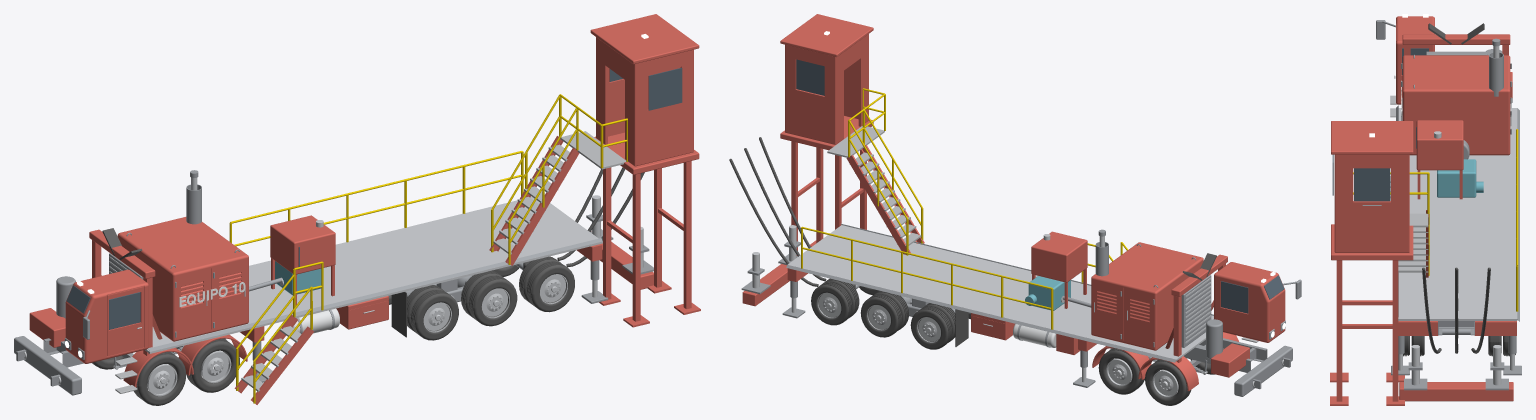
File: sk575_carrier.glb
The picture shows the model from 3 angles, left to right: view 1: azimuth 30°, elevation 25°; view 2: azimuth 150°, elevation 25°; view 3: azimuth 270°, elevation 25°; orthographic projection. The views are drawn at different scales.
Parts seen in each view (by area): view 1: sk575_carrier_acero, sk575_casilla_rojo, sk575_carrier_rojo, sk575_motor_rojo, sk575_carrier_goma, sk575_carrier_acero_oscuro, sk575_cabina_rojo, sk575_carrier_amarillo, sk575_casilla_grating, sk575_casilla_amarillo, sk575_motor_acero_oscuro, sk575_cabina_vidrio (+4 smaller); view 2: sk575_carrier_acero, sk575_casilla_rojo, sk575_carrier_goma, sk575_carrier_rojo, sk575_motor_rojo, sk575_carrier_acero_oscuro, sk575_cabina_rojo, sk575_motor_acero_oscuro, sk575_casilla_amarillo, sk575_carrier_amarillo, sk575_casilla_grating, sk575_cabina_vidrio (+4 smaller); view 3: sk575_carrier_acero, sk575_casilla_rojo, sk575_motor_rojo, sk575_carrier_rojo, sk575_carrier_acero_oscuro, sk575_carrier_goma, sk575_casilla_vidrio, sk575_carrier_azul, sk575_cabina_rojo, sk575_motor_acero_oscuro, sk575_casilla_grating, sk575_carrier_amarillo (+2 smaller).
Part boxes in pixels (left/top/right/bottom): sk575_carrier_acero: left=24, top=195, right=643, bottom=396; sk575_casilla_rojo: left=489, top=14, right=700, bottom=327; sk575_carrier_rojo: left=29, top=215, right=653, bottom=404; sk575_motor_rojo: left=117, top=217, right=248, bottom=341; sk575_carrier_goma: left=92, top=167, right=644, bottom=405; sk575_carrier_acero_oscuro: left=14, top=214, right=653, bottom=395; sk575_cabina_rojo: left=65, top=269, right=148, bottom=363; sk575_carrier_amarillo: left=229, top=151, right=523, bottom=403; sk575_casilla_grating: left=493, top=131, right=626, bottom=254; sk575_casilla_amarillo: left=491, top=94, right=627, bottom=264; sk575_motor_acero_oscuro: left=56, top=170, right=282, bottom=337; sk575_cabina_vidrio: left=66, top=285, right=140, bottom=329; sk575_carrier_acero: left=752, top=225, right=1283, bottom=397; sk575_casilla_rojo: left=780, top=14, right=924, bottom=255; sk575_carrier_goma: left=729, top=137, right=1216, bottom=405; sk575_carrier_rojo: left=742, top=231, right=1249, bottom=391; sk575_motor_rojo: left=1091, top=242, right=1203, bottom=350; sk575_carrier_acero_oscuro: left=741, top=223, right=1292, bottom=396; sk575_cabina_rojo: left=1214, top=262, right=1285, bottom=342; sk575_motor_acero_oscuro: left=1062, top=229, right=1222, bottom=359; sk575_casilla_amarillo: left=848, top=88, right=923, bottom=255; sk575_carrier_amarillo: left=801, top=226, right=1128, bottom=329; sk575_casilla_grating: left=827, top=126, right=921, bottom=246; sk575_cabina_vidrio: left=1221, top=275, right=1284, bottom=313; sk575_carrier_acero: left=1398, top=108, right=1517, bottom=385; sk575_casilla_rojo: left=1330, top=121, right=1428, bottom=405; sk575_motor_rojo: left=1402, top=55, right=1510, bottom=155; sk575_carrier_rojo: left=1398, top=34, right=1516, bottom=401; sk575_carrier_acero_oscuro: left=1391, top=98, right=1521, bottom=390; sk575_carrier_goma: left=1403, top=23, right=1515, bottom=356; sk575_casilla_vidrio: left=1332, top=154, right=1390, bottom=201; sk575_carrier_azul: left=1437, top=159, right=1483, bottom=197; sk575_cabina_rojo: left=1396, top=16, right=1434, bottom=104; sk575_motor_acero_oscuro: left=1401, top=38, right=1511, bottom=159; sk575_casilla_grating: left=1398, top=213, right=1428, bottom=272; sk575_carrier_amarillo: left=1516, top=129, right=1518, bottom=311.
Size of the model in its own units: 14.57 by 6.09 by 4.1.
